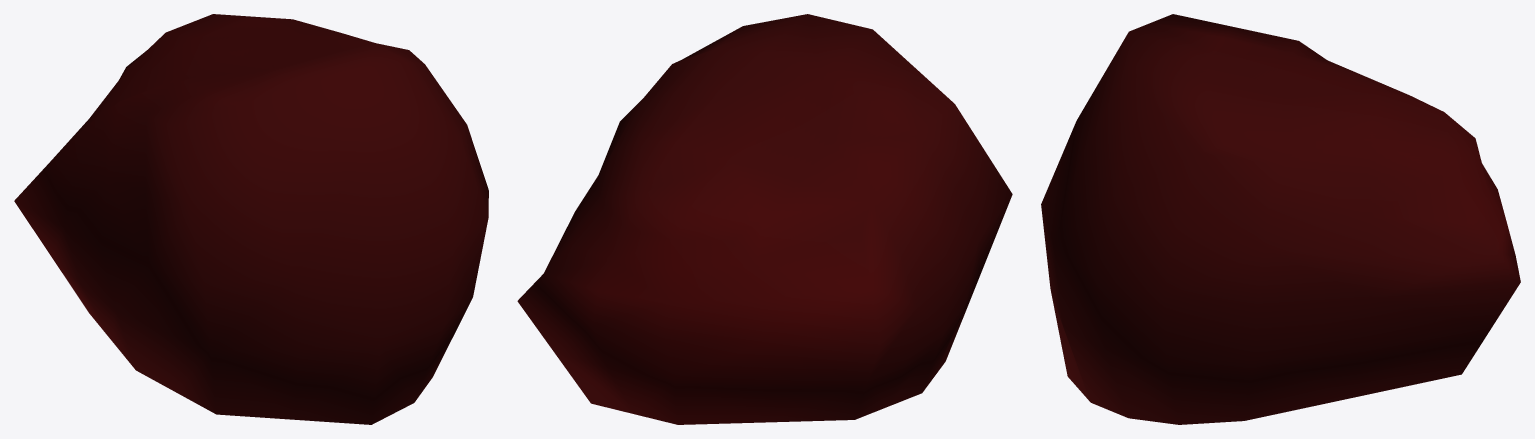
Rendered from geology-pebbles-dirtchunk_v9.fbx.
3 renders of one model, left to right at view 1: azimuth 30°, elevation 25°; view 2: azimuth 150°, elevation 25°; view 3: azimuth 270°, elevation 25°, orthographic.
Parts seen in each view (by area): view 1: DirtChunk_v9; view 2: DirtChunk_v9; view 3: DirtChunk_v9.
Boxes of the visible parts, left/top/right/bottom form: DirtChunk_v9: left=14, top=14, right=488, bottom=424; DirtChunk_v9: left=517, top=14, right=1012, bottom=424; DirtChunk_v9: left=1041, top=14, right=1520, bottom=424.
Bounding box in the file's own units: 5.87 × 5.2 × 6.95.
